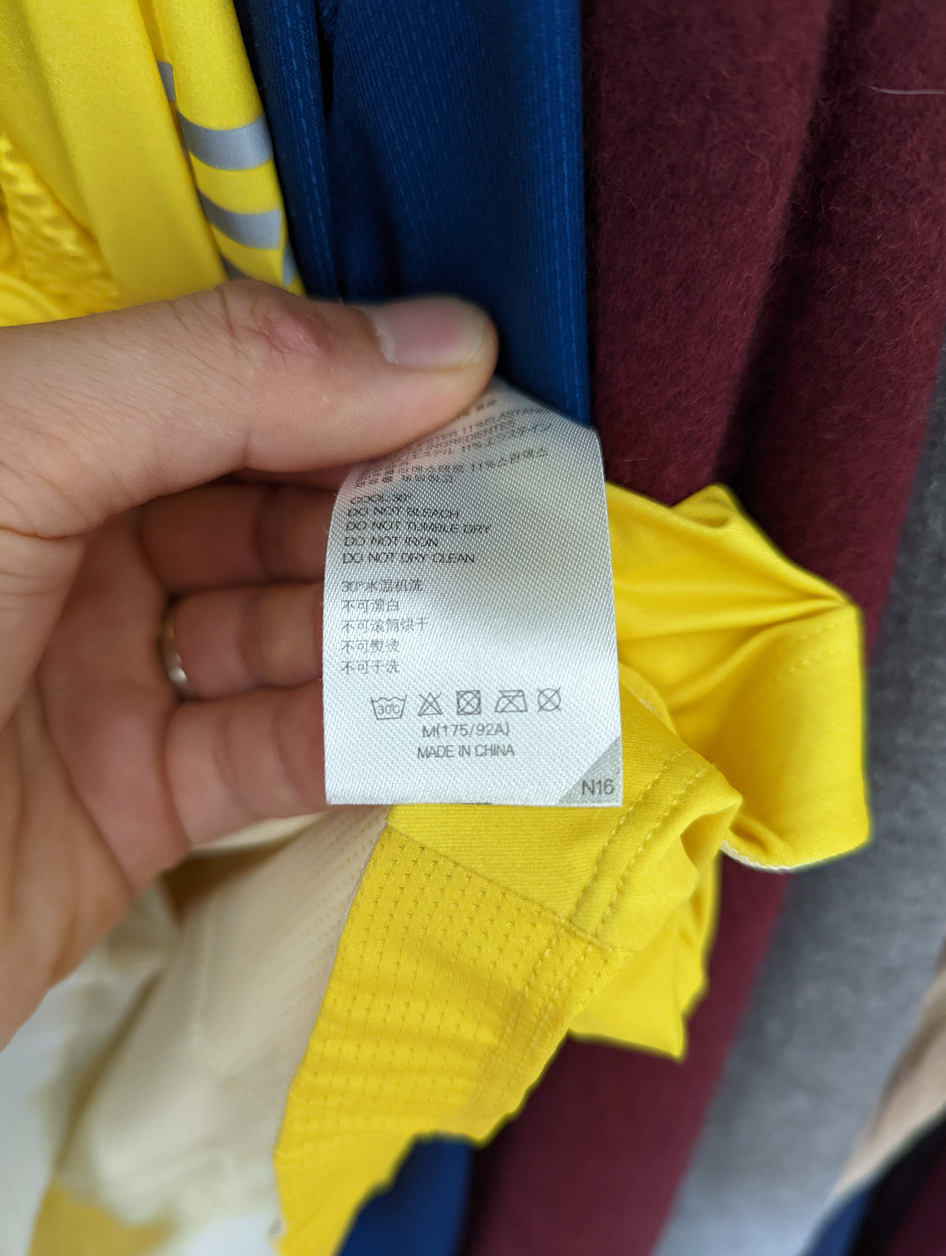ER_no_bleach: (416, 690, 446, 719)
ER_no_dry_clean: (535, 685, 564, 716)
ER_no_iron: (492, 687, 529, 715)
ER_no_tumble_dry: (453, 688, 484, 717)
ER_wash_30: (367, 691, 409, 722)
